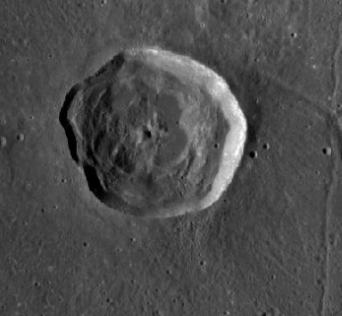crater: (34, 32, 302, 278)
